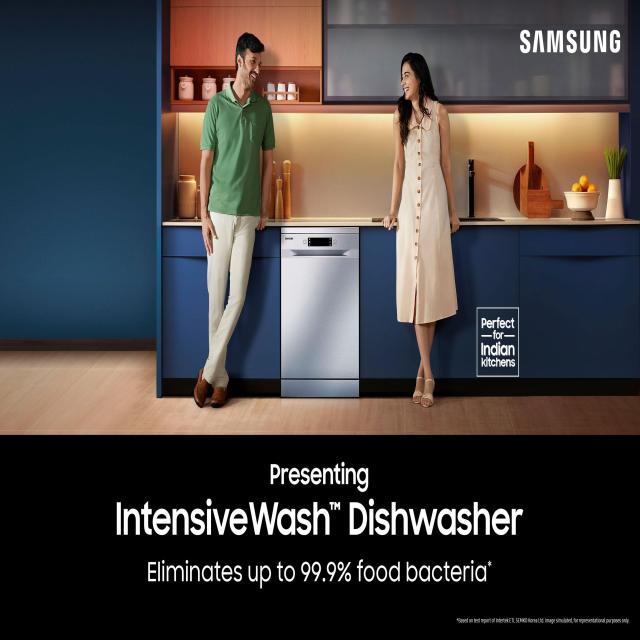dishwasher: (279, 223, 365, 399)
